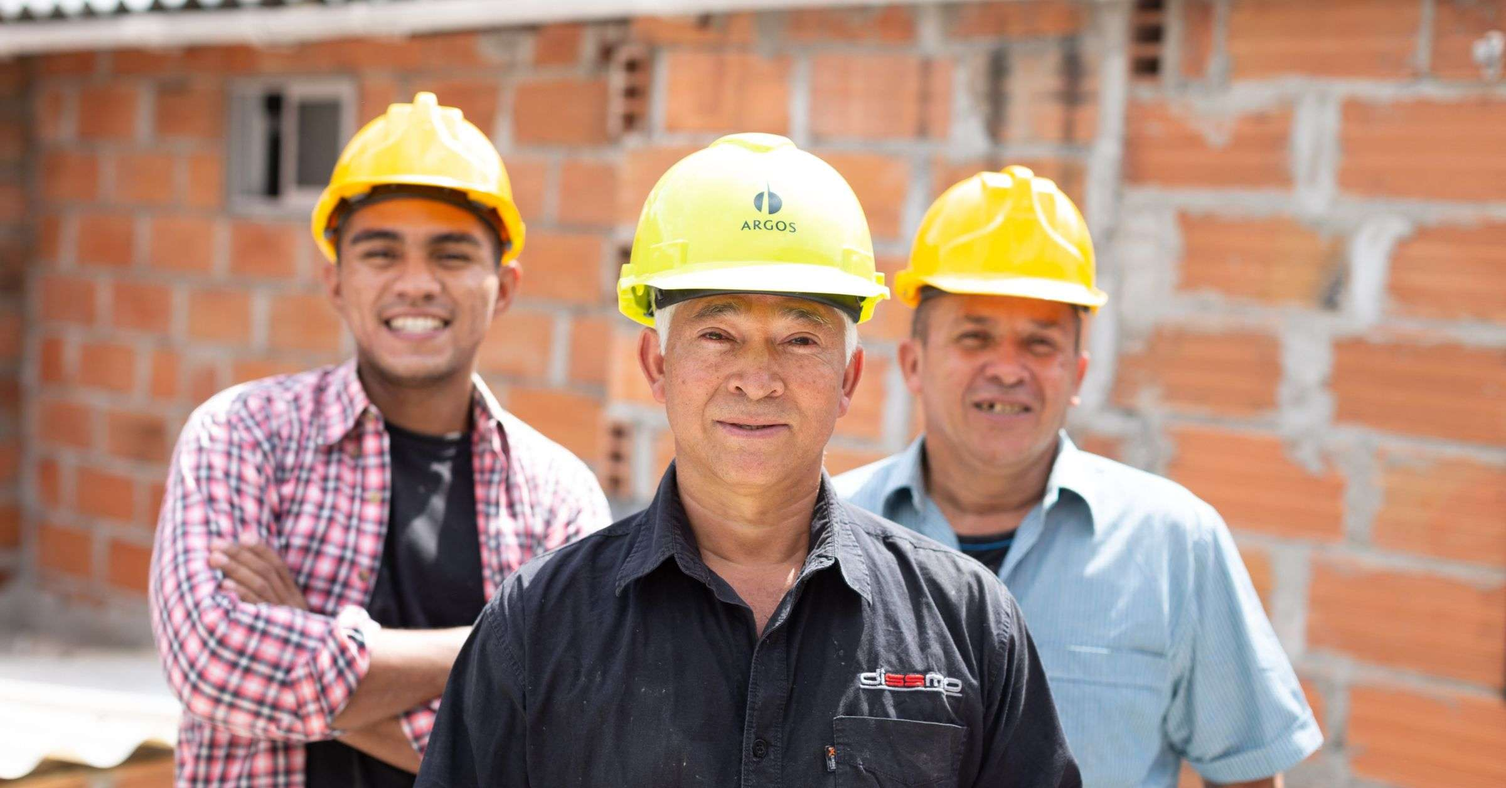Casco de seguridad: (617, 132, 889, 326), (311, 92, 525, 264), (893, 166, 1107, 310)
